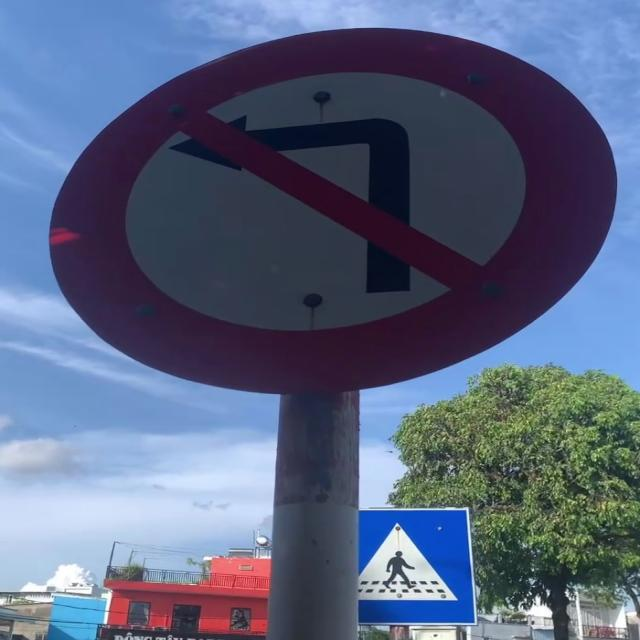Cam_Re_Trai: (50, 26, 620, 406)
